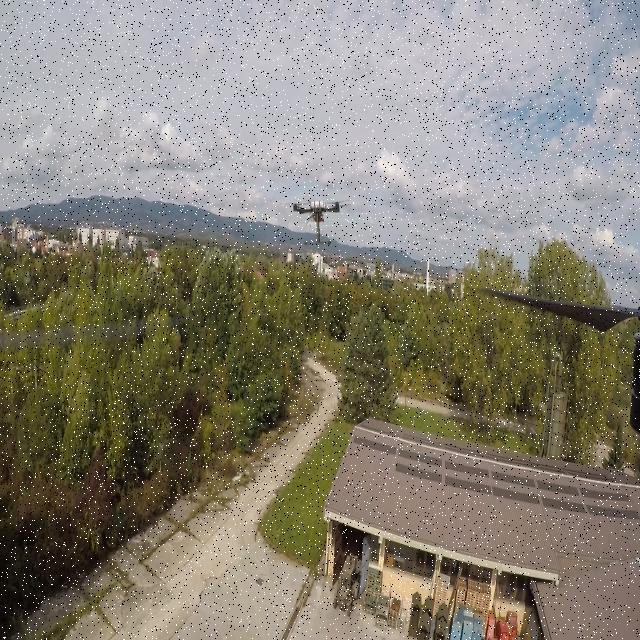UAV: (279, 190, 355, 249)
